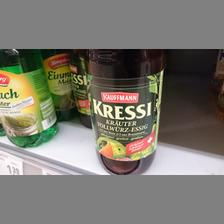Essig: (86, 47, 166, 175), (0, 48, 60, 148)
